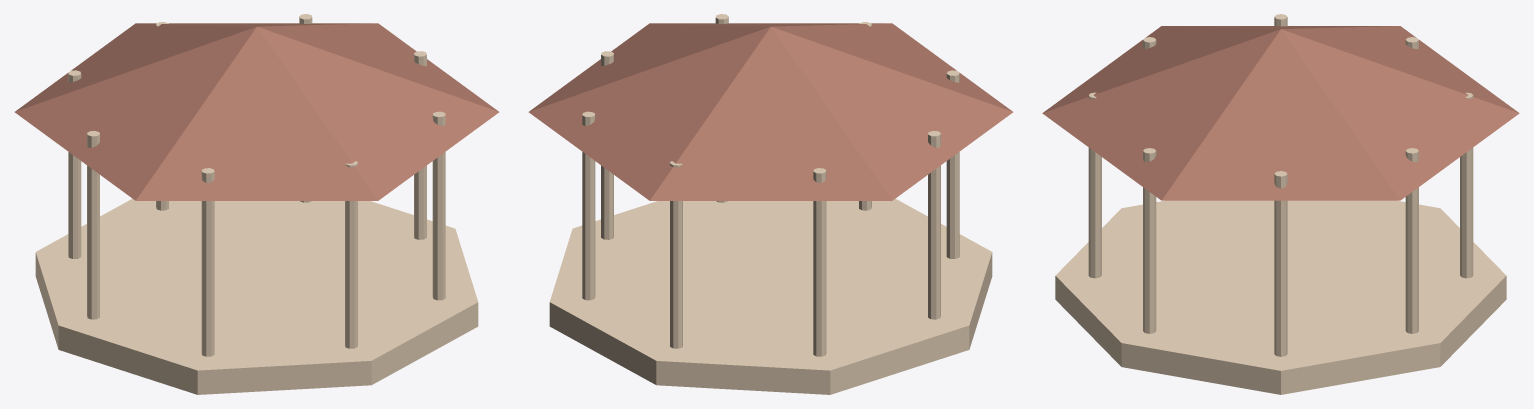
Rendered from gazebo.obj.
3 renders of one model, left to right at view 1: azimuth 30°, elevation 25°; view 2: azimuth 150°, elevation 25°; view 3: azimuth 270°, elevation 25°, orthographic.
Parts seen in each view (by area): view 1: gazebo; view 2: gazebo; view 3: gazebo.
Part boxes in pixels (x1,y1,x2,y2): gazebo: (14, 14, 499, 394); gazebo: (528, 14, 1013, 394); gazebo: (1042, 14, 1519, 394).
Bounding box in the file's own units: 6.8 × 4.5 × 7.2.
